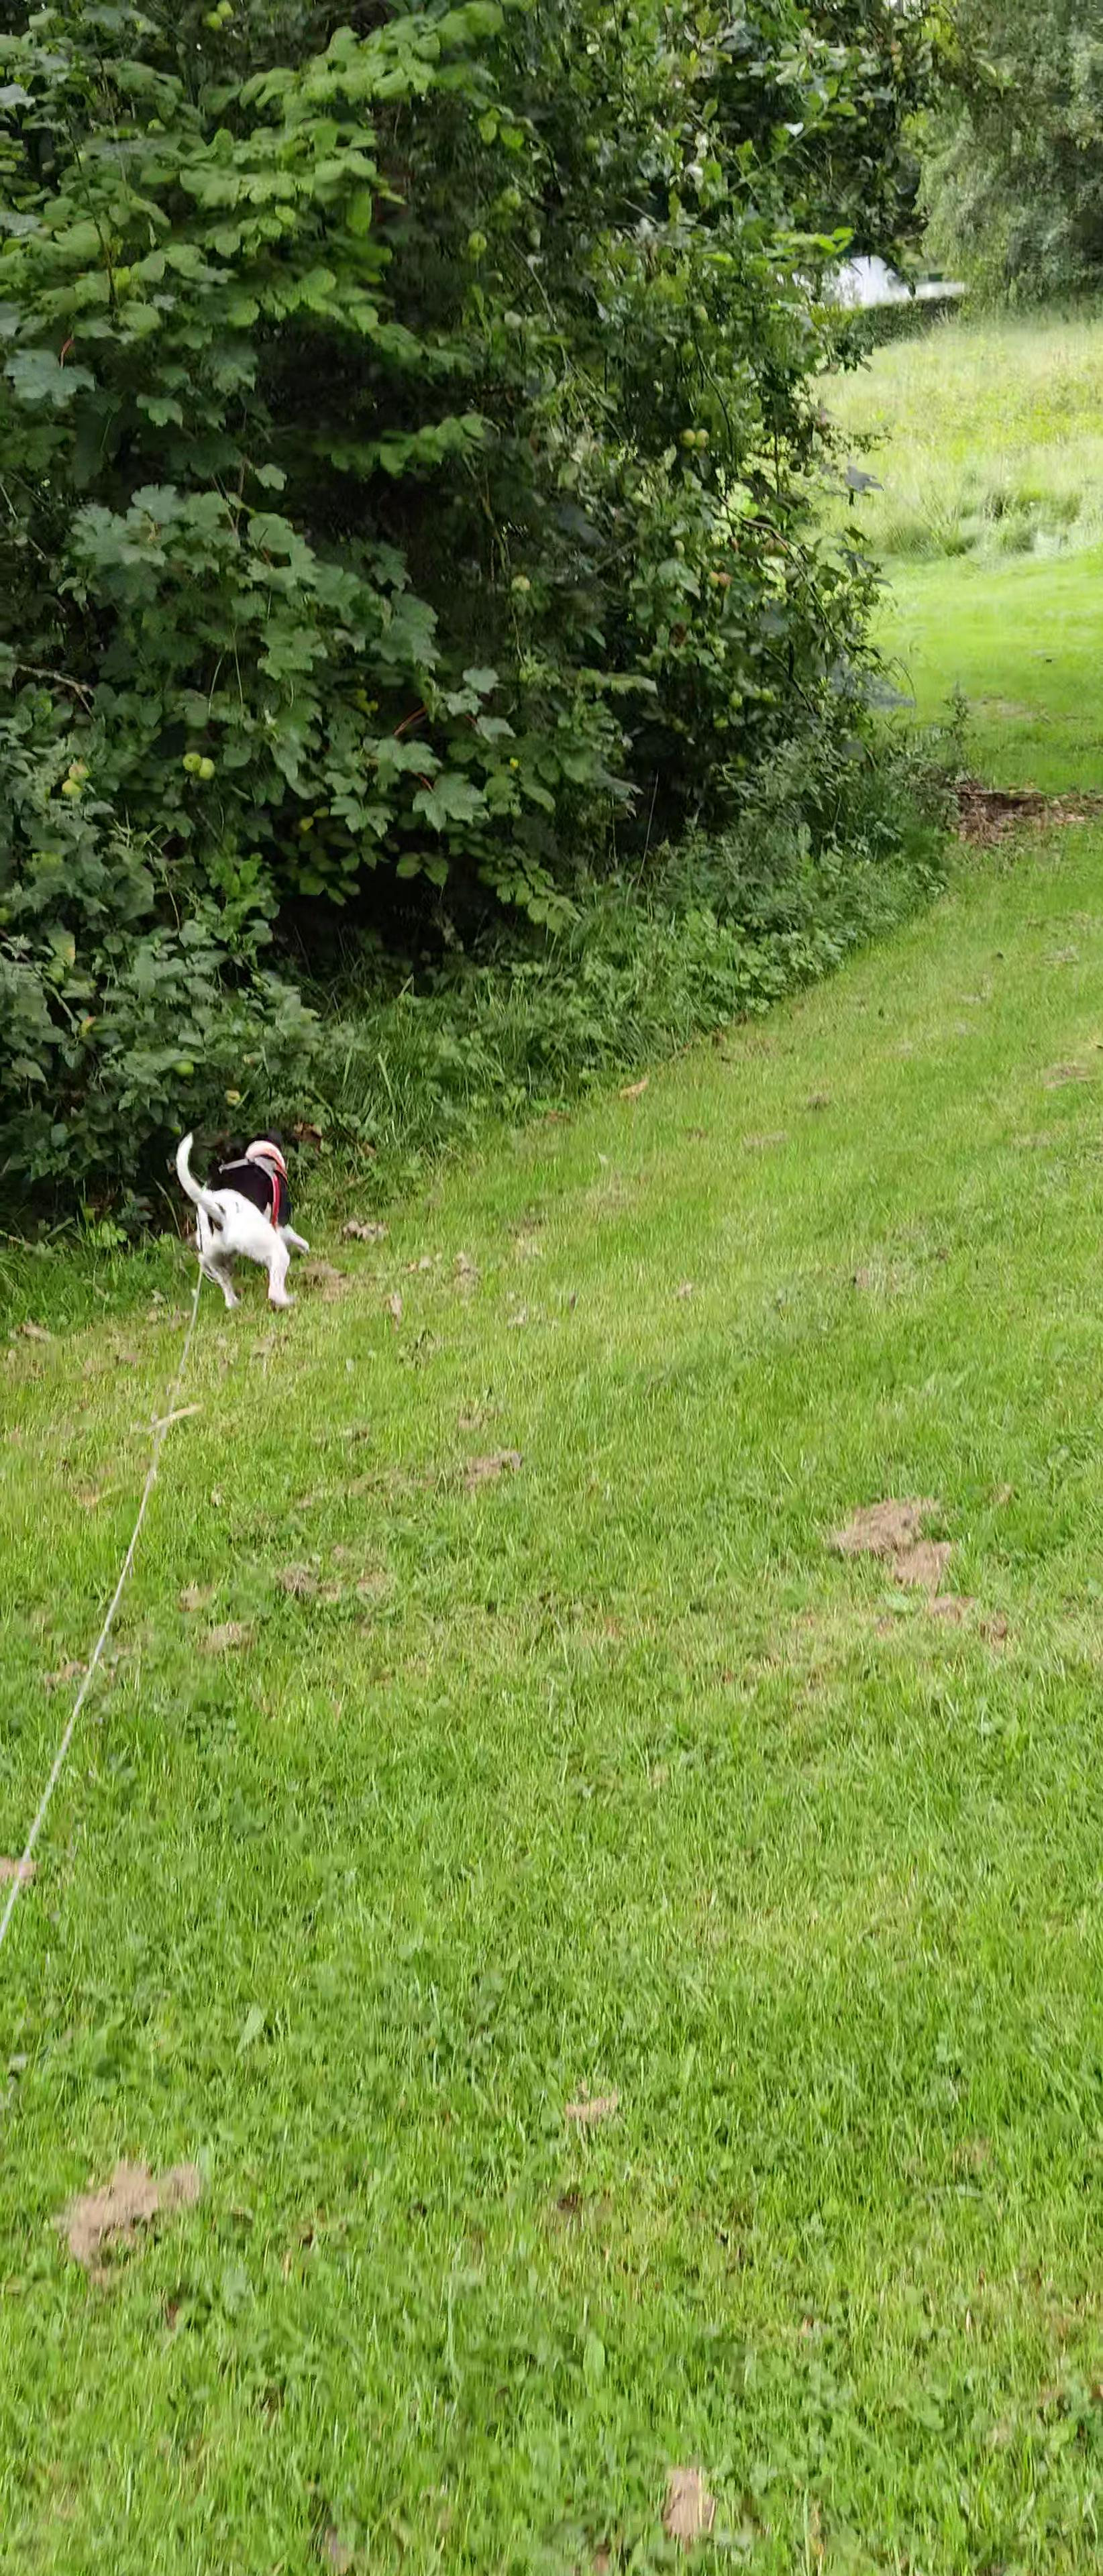Dog: (169, 1127, 311, 1313)
